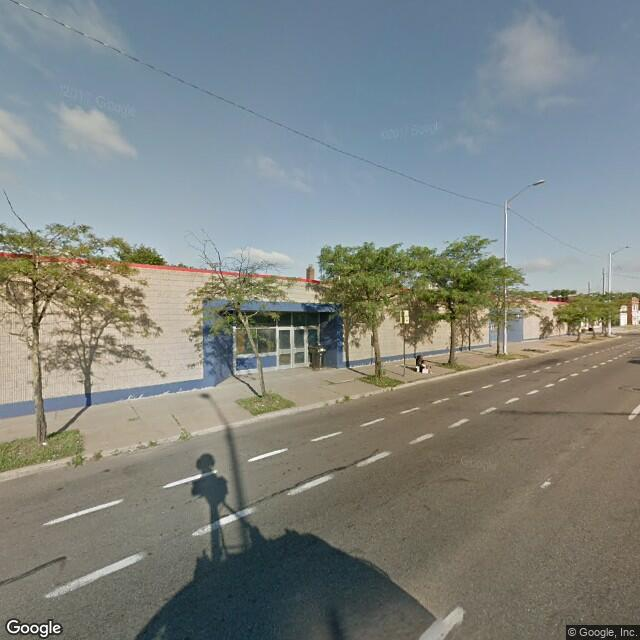litter: (123, 446, 135, 456), (36, 441, 49, 446), (44, 457, 55, 462), (258, 404, 263, 408)
